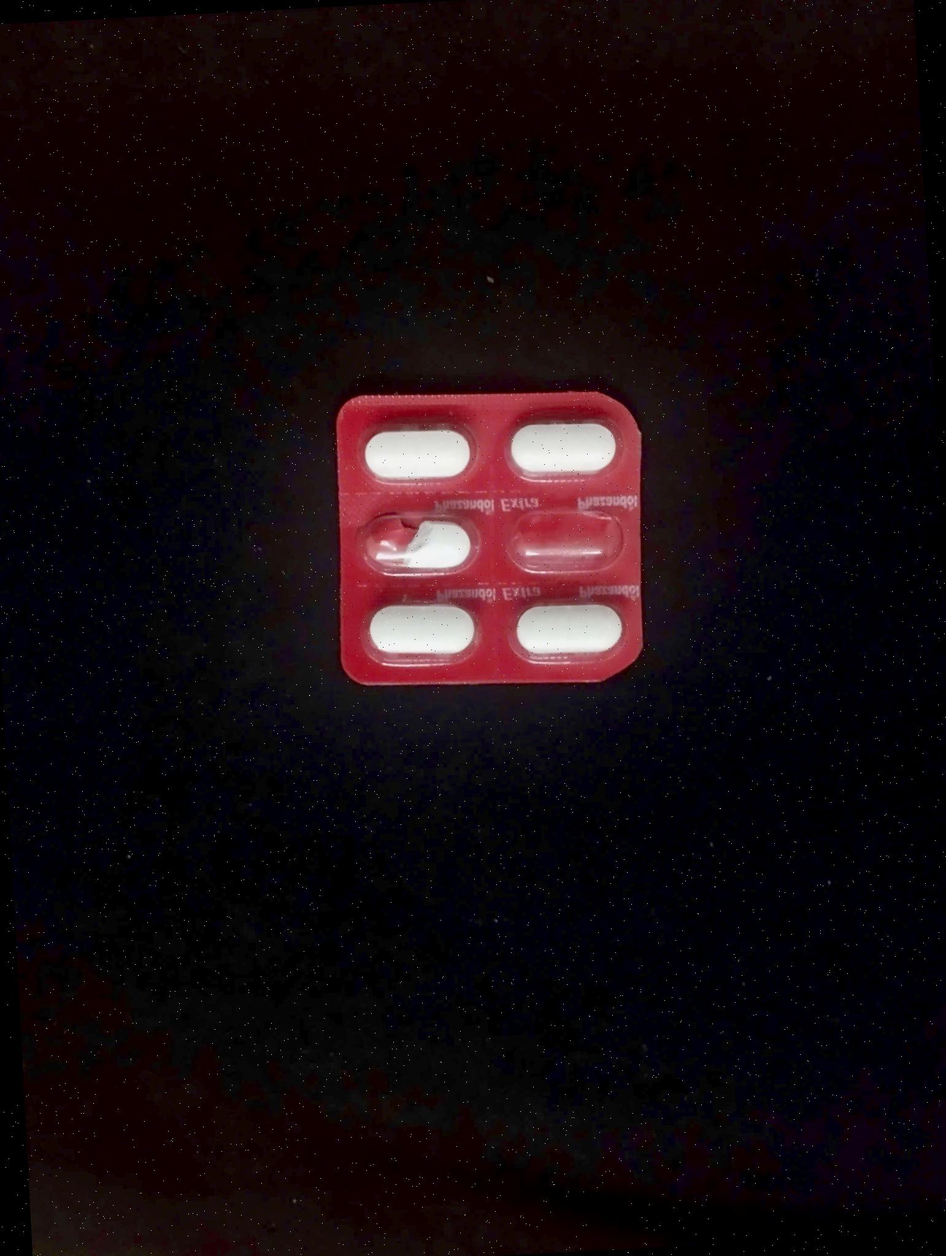Empty: (507, 504, 636, 582)
Full: (357, 410, 482, 491), (504, 589, 634, 665), (502, 414, 629, 488), (360, 597, 485, 663)
Partial: (357, 503, 488, 583)
